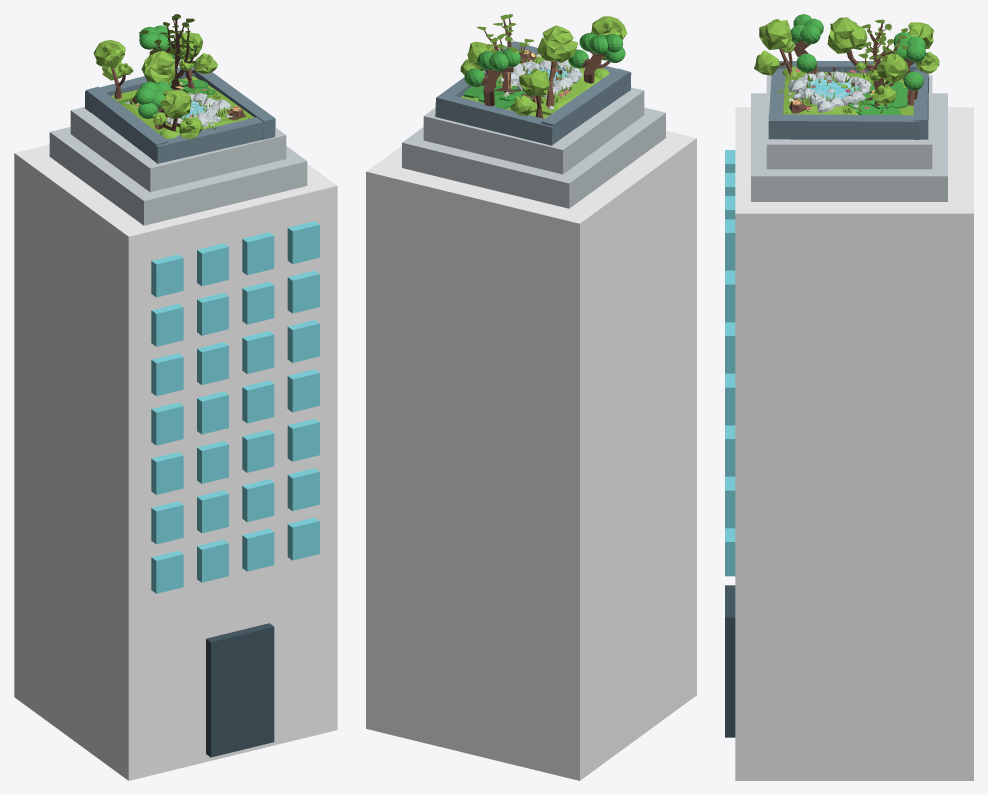
Rendered from residential-B3.glb.
3 renders of one model, left to right at view 1: azimuth 30°, elevation 25°; view 2: azimuth 150°, elevation 25°; view 3: azimuth 270°, elevation 25°, orthographic. The views are drawn at different scales.
Visible parts, largest first — view 1: Node.012, Node.011, Node.009, Node.010, Node.001, Node.008, Node.006, Node.007; view 2: Node.012, Node.009, Node.001, Node.008, Node.006, Node.007; view 3: Node.012, Node.009, Node.008, Node.001, Node.011, Node.006, Node.010, Node.007.
Boxes of the visible parts, x1,y1,x2,y2 form: Node.012: (14,115,337,780); Node.011: (151,101,319,593); Node.009: (49,93,307,225); Node.010: (206,623,274,757); Node.001: (85,66,275,163); Node.008: (93,14,254,138); Node.006: (120,25,215,118); Node.007: (111,18,246,131); Node.012: (366,54,696,780); Node.009: (402,59,665,208); Node.001: (435,41,631,145); Node.008: (460,14,627,118); Node.006: (464,33,625,108); Node.007: (481,18,610,118); Node.012: (735,74,973,780); Node.009: (751,71,947,201); Node.008: (754,17,939,115); Node.001: (768,61,928,139); Node.011: (725,79,858,576); Node.006: (790,14,925,114); Node.010: (725,585,735,737); Node.007: (779,23,918,113).
Bounding box in the file's own units: 0.8661 × 2.72 × 0.8574.
